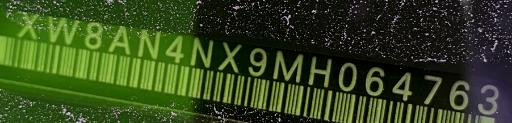letter: (134, 26, 166, 65), (42, 9, 76, 44), (274, 48, 304, 85), (308, 51, 334, 92), (476, 78, 502, 119), (185, 32, 215, 67), (106, 22, 134, 59), (360, 60, 386, 99), (163, 33, 191, 68), (218, 38, 242, 75), (244, 45, 268, 80), (419, 71, 443, 106), (448, 74, 470, 112), (15, 8, 41, 40), (391, 67, 415, 101), (80, 16, 102, 52), (334, 58, 356, 93)
